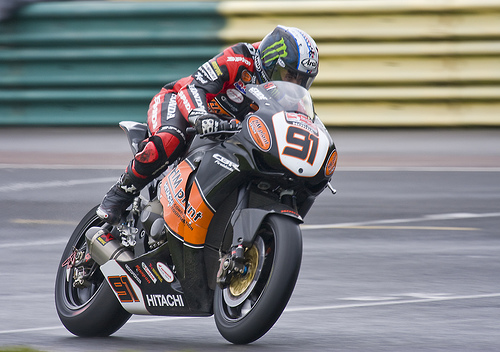helmet: (258, 27, 327, 89)
